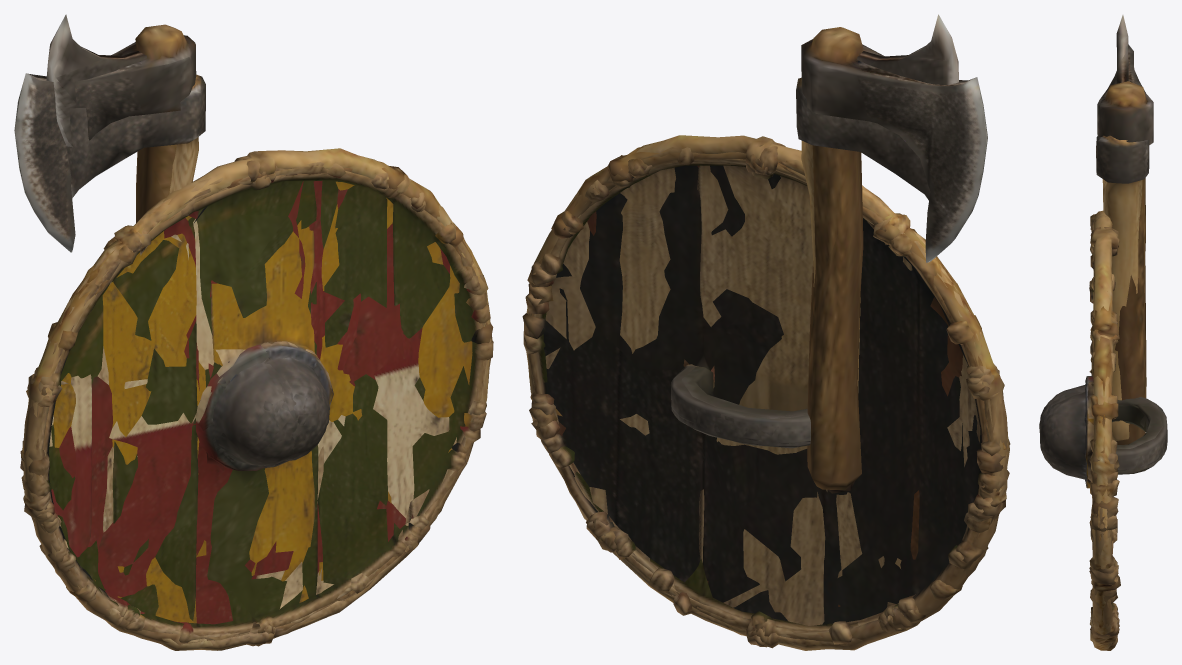
Rendered from varangian_gear.glb.
3 renders of one model, left to right at view 1: azimuth 30°, elevation 25°; view 2: azimuth 150°, elevation 25°; view 3: azimuth 270°, elevation 25°, orthographic. The views are drawn at different scales.
Visible parts, largest first — view 1: Shield05, Shield01, Shield06, Shield03, Axe02, Axe01, Shield02, Shield04, Axe03; view 2: Shield02, Shield04, Axe02, Shield03, Shield05, Shield06, Axe01, Shield01, Axe03; view 3: Axe02, Axe01, Shield03, Shield04, Shield02, Shield01, Shield06, Shield05, Axe03.
Part boxes in pixels (x1,y1,x2,y2): Shield05: (21, 170, 493, 635); Shield01: (23, 152, 491, 650); Shield06: (22, 162, 492, 642); Shield03: (21, 148, 492, 650); Axe02: (14, 24, 196, 252); Axe01: (66, 74, 205, 198); Shield02: (20, 161, 493, 644); Shield04: (22, 169, 490, 640); Axe03: (46, 14, 146, 147); Shield02: (522, 147, 1005, 645); Shield04: (527, 159, 1008, 639); Axe02: (801, 27, 987, 490); Shield03: (526, 135, 1009, 650); Shield05: (523, 160, 1009, 632); Shield06: (525, 147, 1010, 644); Axe01: (796, 77, 930, 392); Shield01: (528, 141, 1007, 650); Axe03: (828, 14, 958, 493); Axe02: (1097, 44, 1153, 444); Axe01: (1096, 135, 1149, 440); Shield03: (1039, 210, 1167, 650); Shield04: (1039, 217, 1167, 630); Shield02: (1090, 230, 1147, 642); Shield01: (1040, 214, 1166, 635); Shield06: (1040, 219, 1167, 644); Shield05: (1040, 228, 1162, 631); Axe03: (1116, 15, 1128, 83).
Bounding box in the file's own units: 0.7 × 0.9516 × 0.2039.
Materials: 1 (1 with a texture image).
